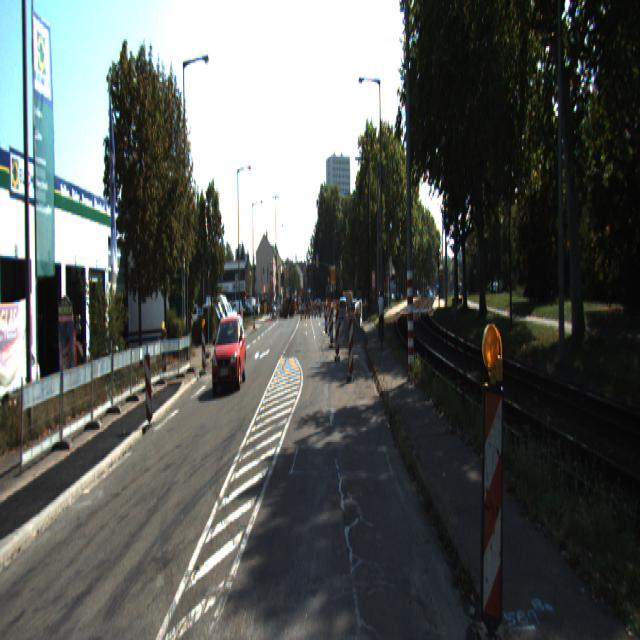Car: (208, 312, 249, 392)
